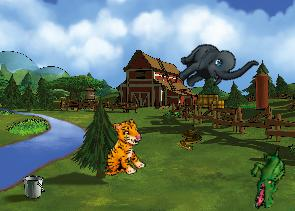crocodile: (246, 146, 290, 210)
elephant: (170, 22, 259, 110)
tiger: (93, 117, 151, 181)
